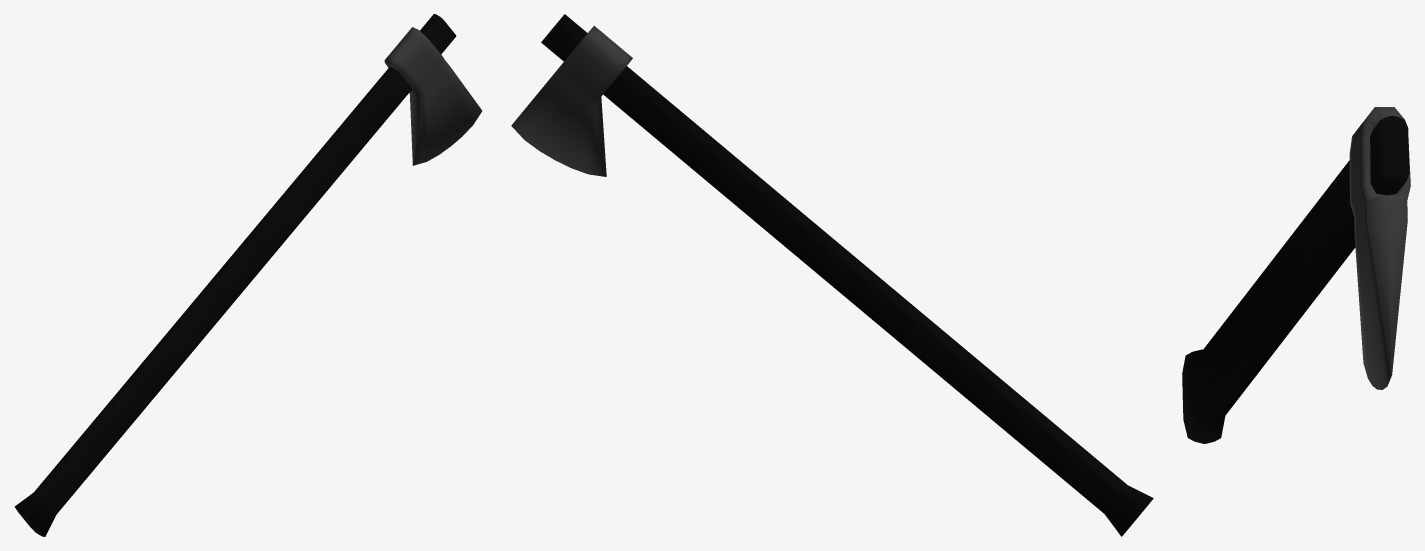
The picture shows the model from 3 angles, left to right: view 1: azimuth 30°, elevation 25°; view 2: azimuth 150°, elevation 25°; view 3: azimuth 270°, elevation 25°; orthographic projection. The views are drawn at different scales.
Visible parts, largest first — view 1: Cube.003; view 2: Cube.003; view 3: Cube.003.
Part boxes in pixels (x1,y1,x2,y2): Cube.003: [14, 14, 482, 536]; Cube.003: [511, 14, 1153, 536]; Cube.003: [1182, 107, 1410, 443].
Size of the model in its own units: 1.78 by 1.26 by 0.3437.
Materials: 1 (1 with a texture image).
